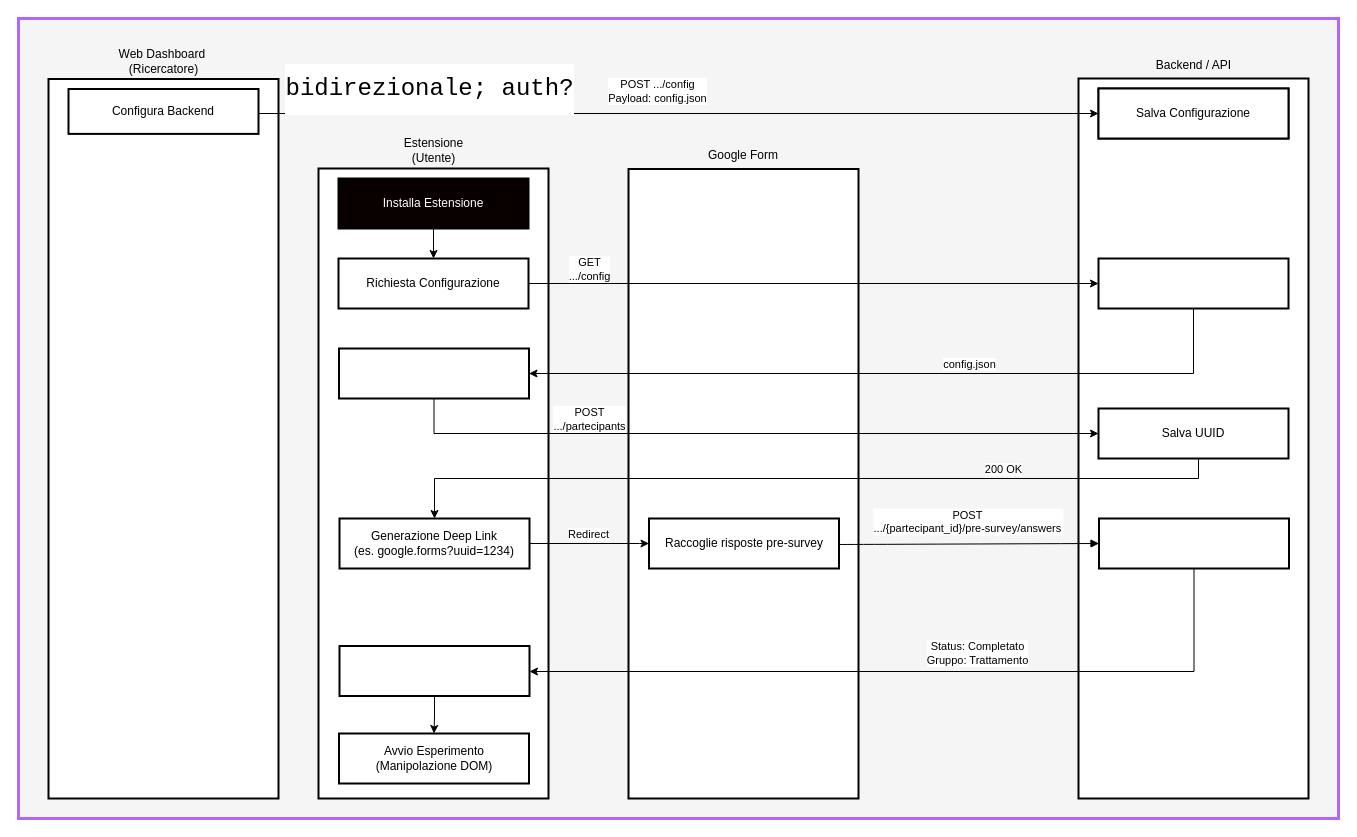
This 1357x837 diagram has some shape labels left out. The shapes that lost their labels are listed below. From the top down, each one's centre as x and y in pixels, then its label:
At point 1193,283: "Restituisci Configurazione".
At point 434,373: "Generazione UUID".
At point 1194,543: "Salva risposte Assegna Gruppo A/B".
At point 434,670: "Verifica Completamento Survey (Polling o Messaggio)".
